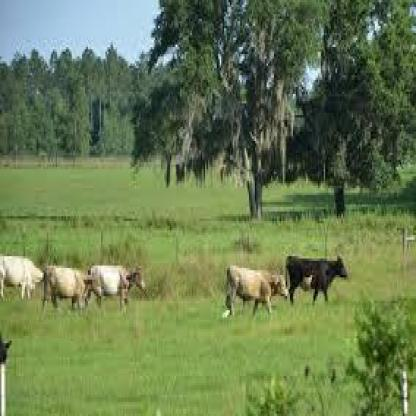cow: (226, 262, 288, 316), (284, 253, 349, 304), (42, 266, 102, 312), (88, 263, 146, 310), (1, 255, 44, 300)
